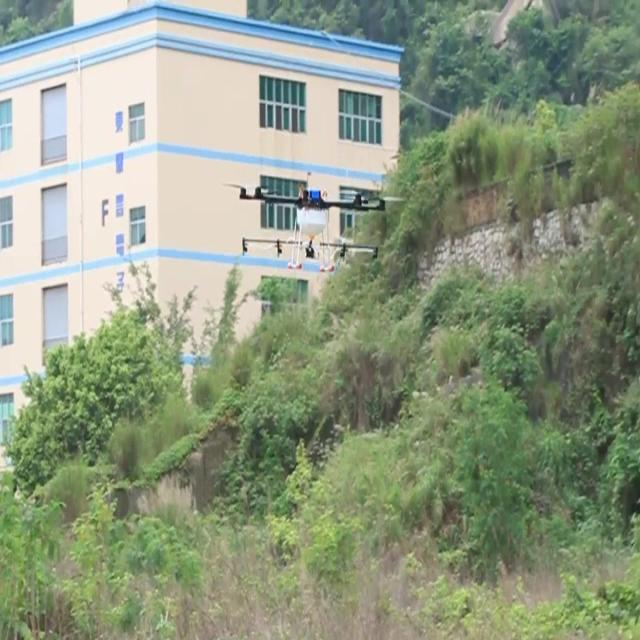drone: (236, 165, 396, 278)
